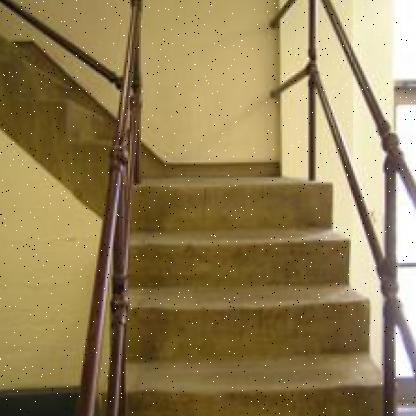stair_up: (104, 164, 394, 328)
